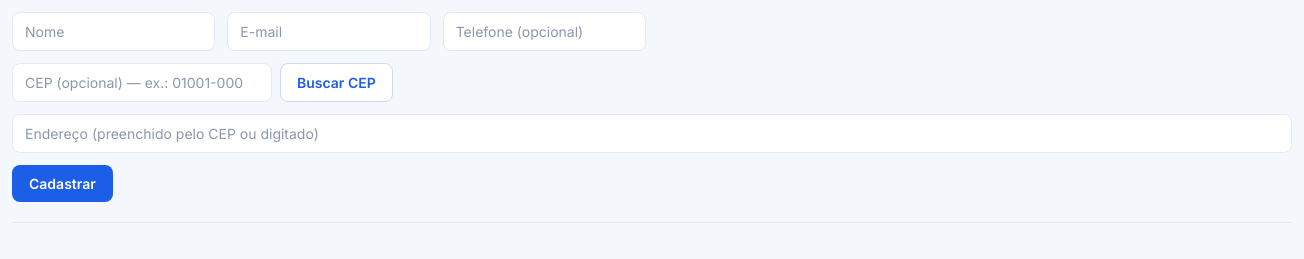
Scenario: ClienteForm › mostra embaixo de cada campo o erro de validação que veio do back-end
Click the button "Cadastrar".
click(62, 184)  # box [12,165,113,202]
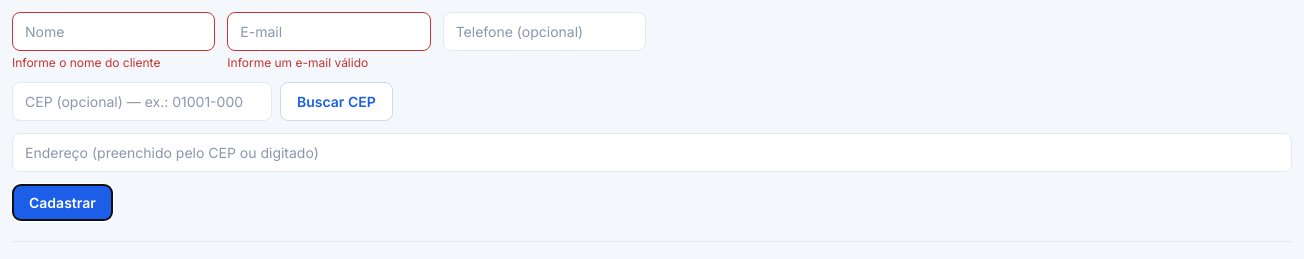
expect the text "Informe o nome do cliente" is shown: met, box [12,55,160,70]
expect the text "Informe um e-mail válido" is shown: met, box [227,55,368,70]
